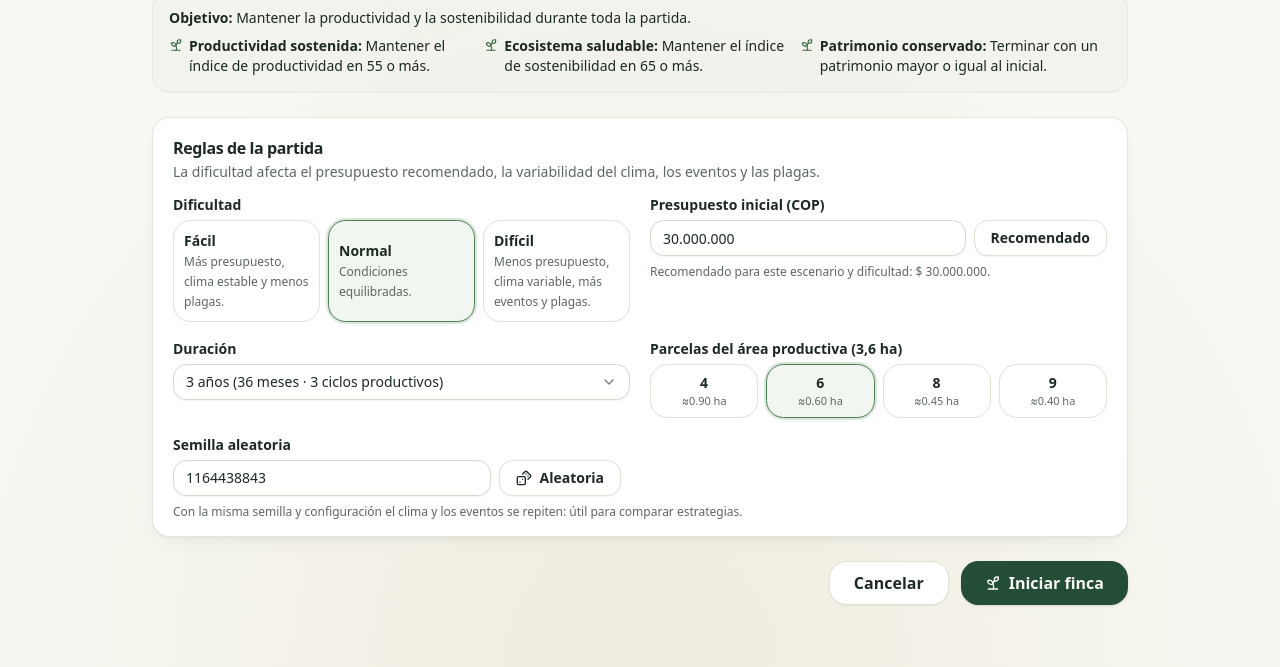
Configuración de partida › valida el formulario con Zod y muestra errores
(page scrolled)
Click the button with test id "start-game".
click(1044, 583)  # box [961,561,1128,605]
(page scrolled)
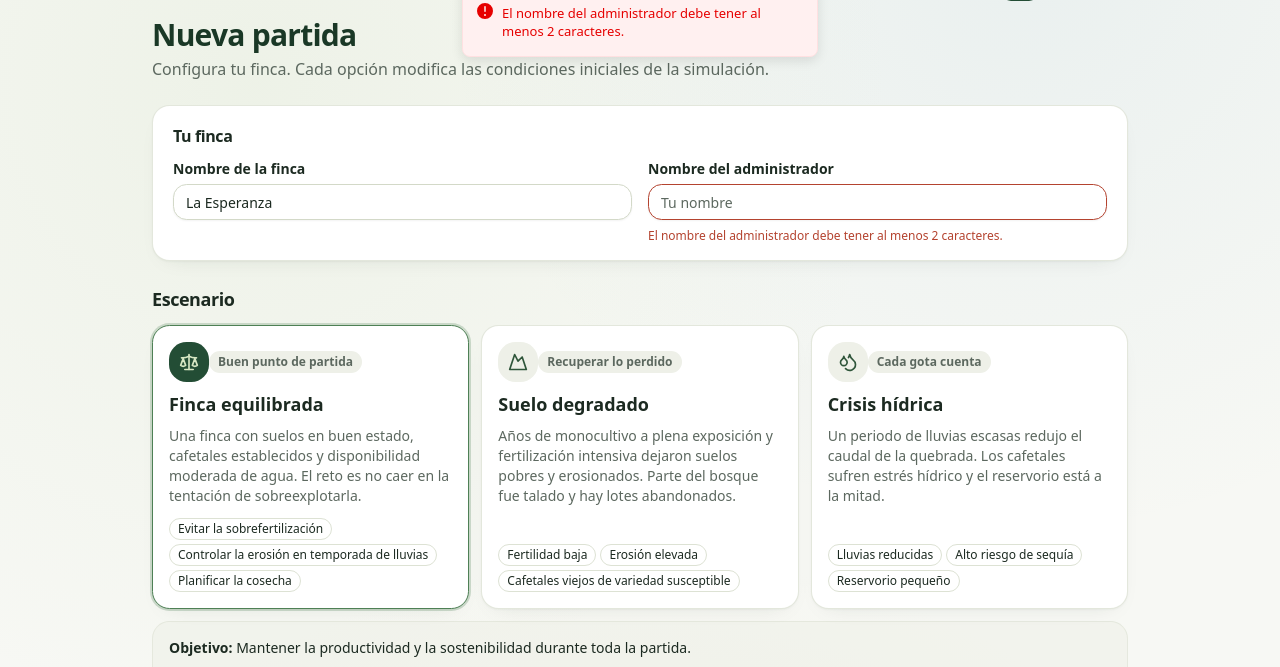
Now the 2nd text "administrador debe tener al menos 2 caracteres" is shown, box [648,227,1003,244]
